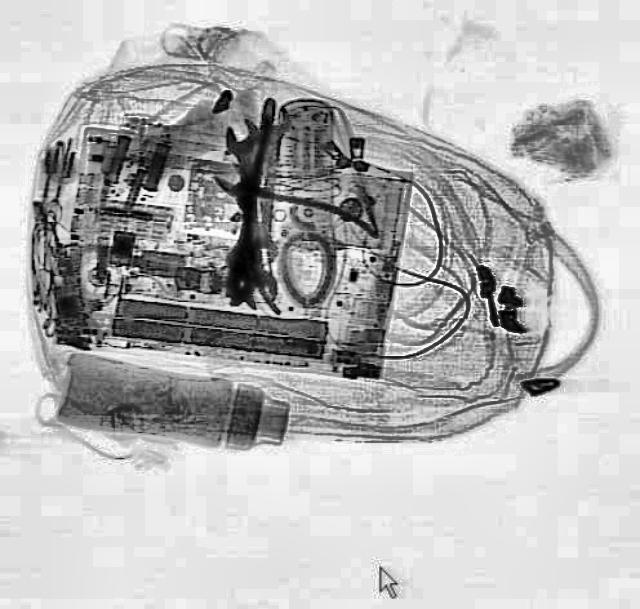Pliers: (172, 128, 384, 316)
Wrench: (217, 116, 283, 240)
